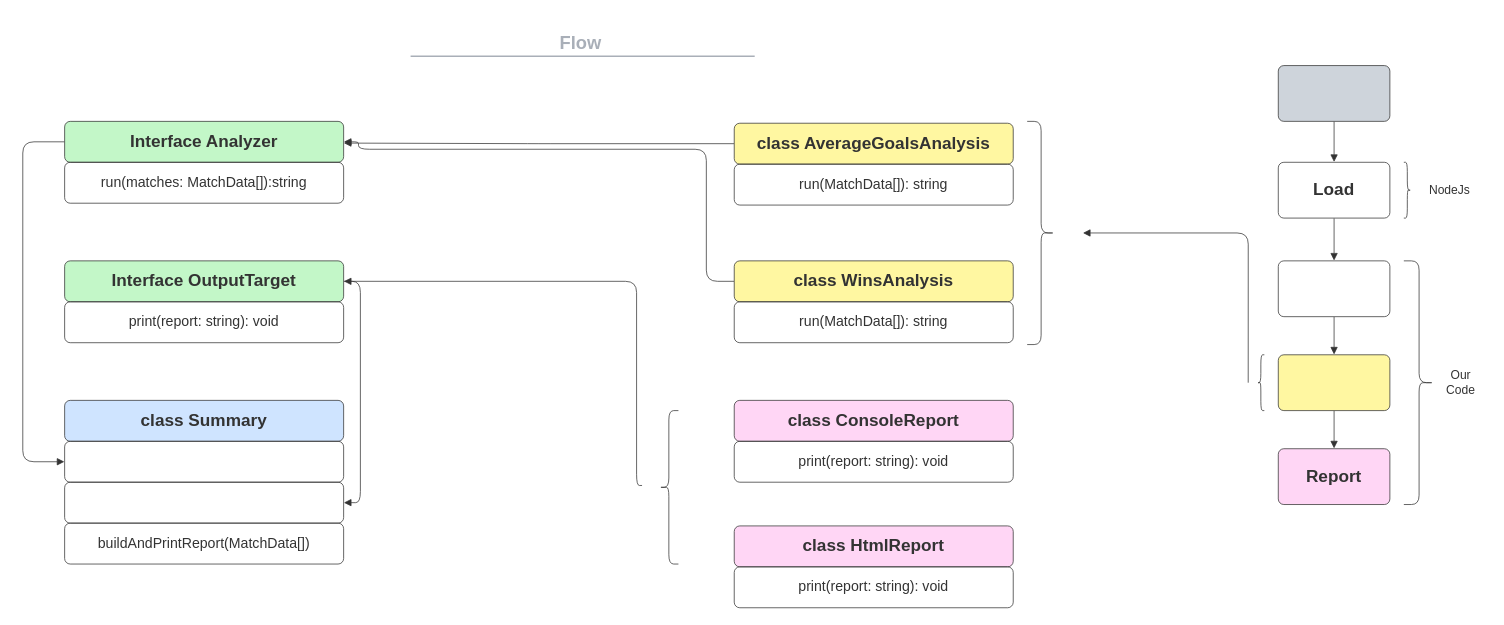
Some shapes in this 1504 by 625 pixel diagram are drawn without their labels. The centre of each missing label's shape, as x and y in pixels:
"%creatorName% | %date{mmmm d, yyyy}%" belongs at (580,63).
"Analyze" belongs at (1333,382).
"analyzer: Analyzer" belongs at (204,461).
"CSV Data" belongs at (1333,93).
"outputTarget: OutputTarget" belongs at (204,502).
"Parse" belongs at (1333,288).
